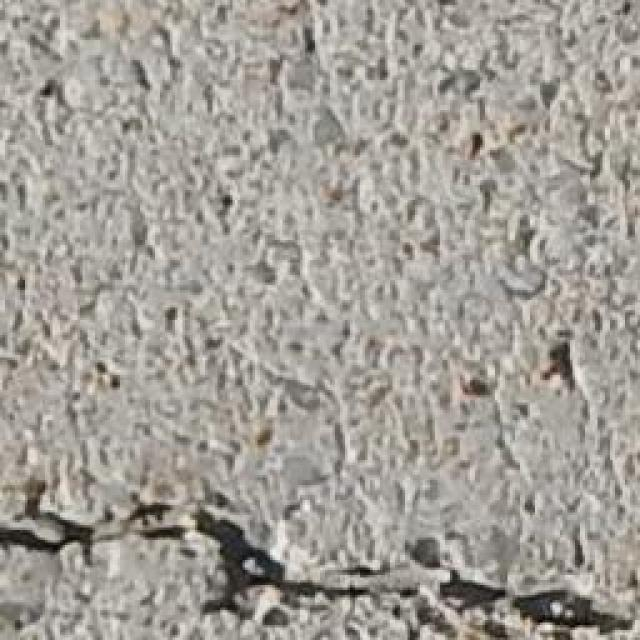concrete-crack: (0, 473, 640, 640)
